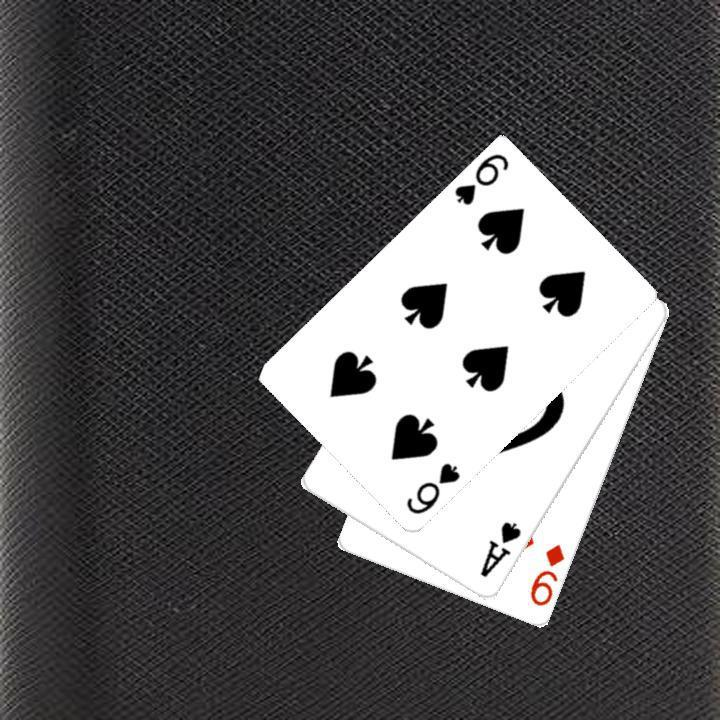6: (450, 149, 511, 208), (401, 459, 462, 517)
9: (525, 540, 567, 609)
A: (476, 518, 524, 580)
